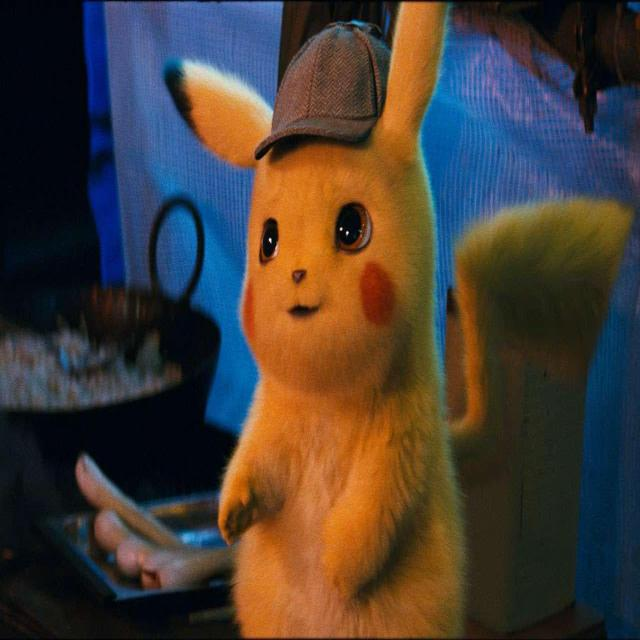pikachu: (166, 0, 634, 636)
